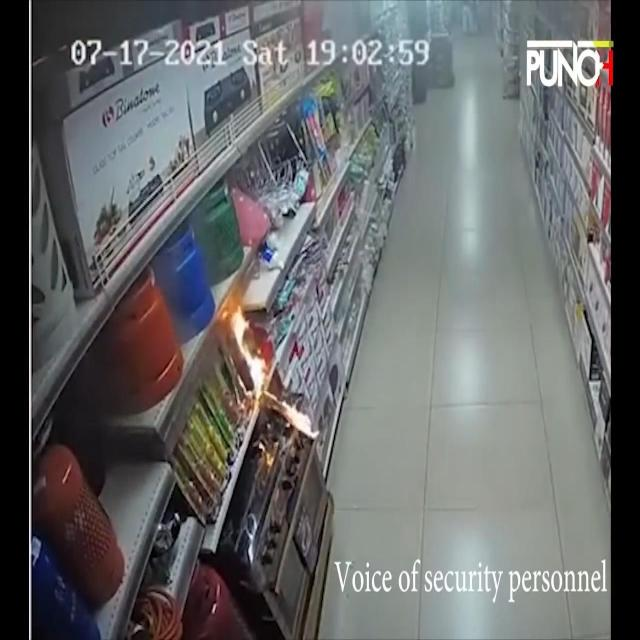fire: (222, 304, 266, 396)
